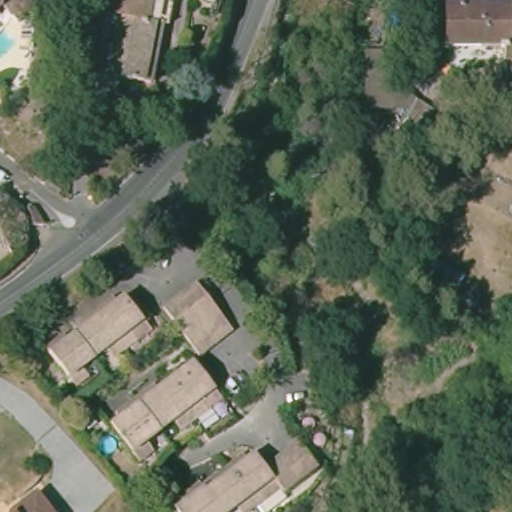pool: (1, 14, 22, 70), (93, 431, 123, 457)
